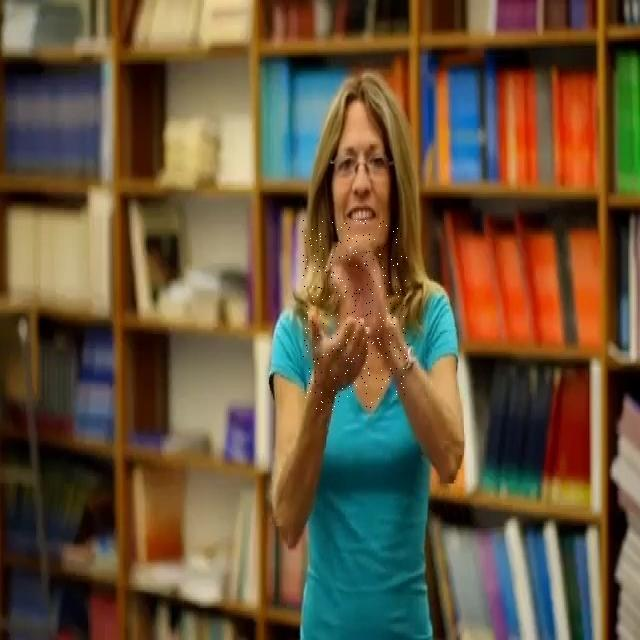burger: (302, 220, 408, 410)
